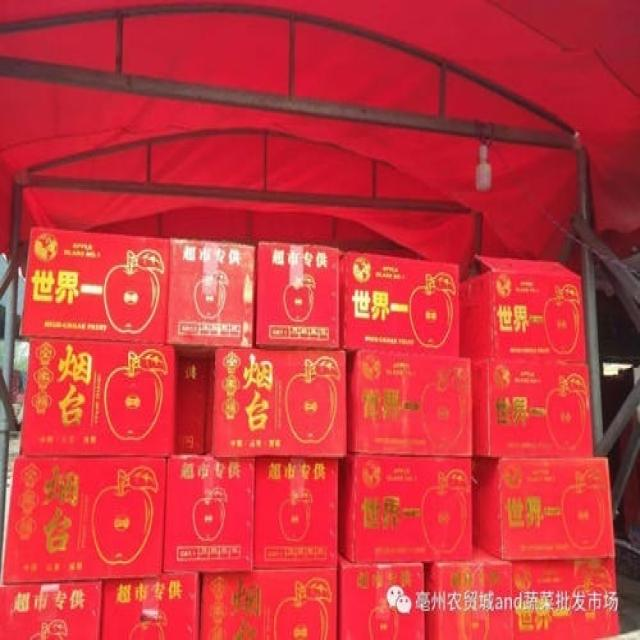box: (1, 455, 170, 583), (18, 338, 180, 456), (17, 227, 171, 343), (203, 348, 347, 459), (337, 453, 473, 564), (470, 457, 615, 561), (458, 256, 587, 364), (347, 352, 472, 459), (340, 254, 459, 359), (472, 358, 593, 457), (162, 454, 257, 574), (165, 239, 256, 361), (199, 569, 337, 638), (253, 242, 340, 350), (511, 558, 619, 638), (424, 544, 514, 638), (337, 551, 425, 638), (102, 573, 203, 638), (0, 579, 104, 638), (177, 359, 208, 455)
